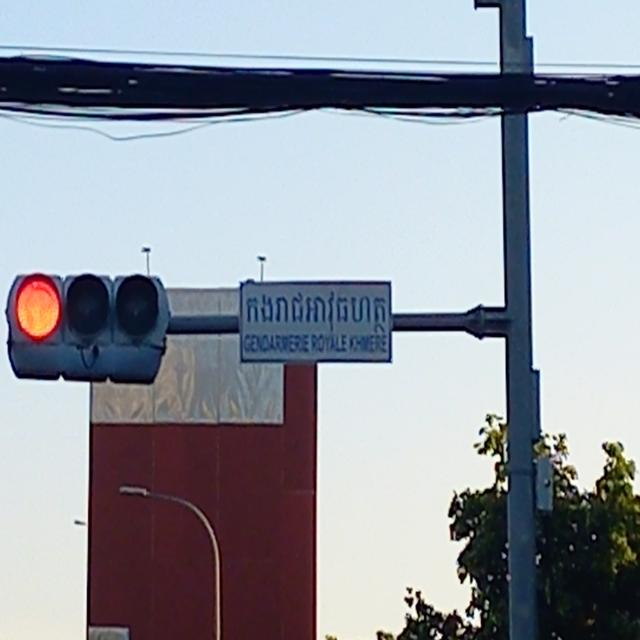Yolov11kh: (245, 289, 391, 335)
